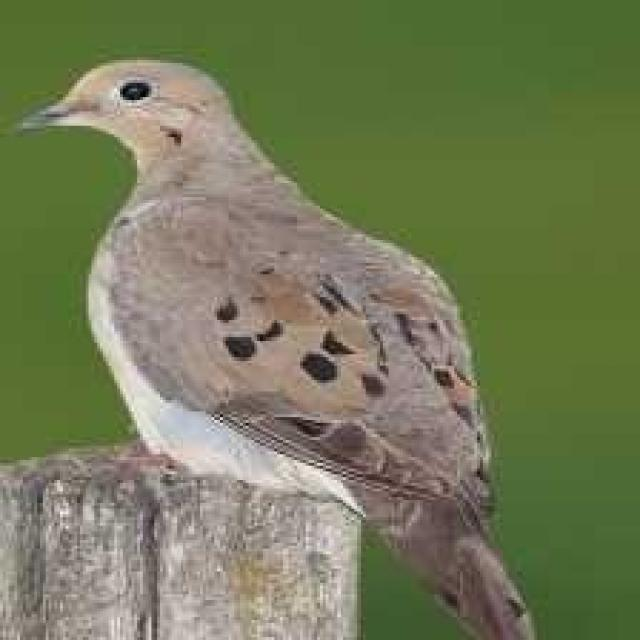bird: (9, 51, 558, 640)
